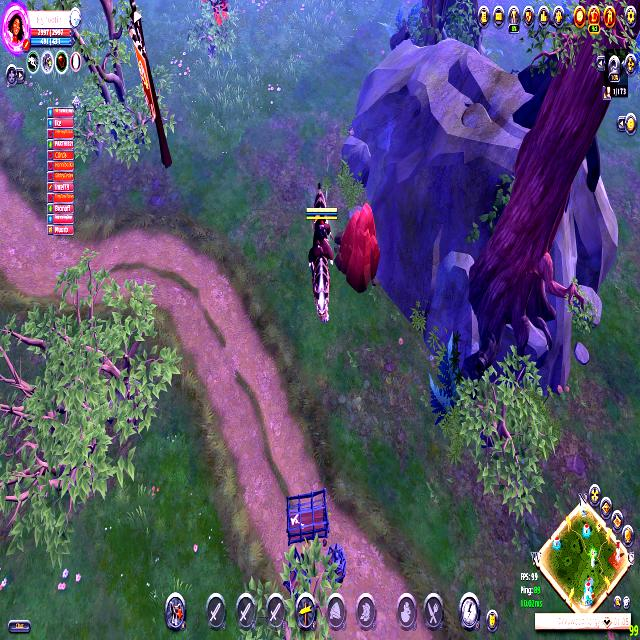red: (301, 174, 341, 332)
tree: (331, 195, 389, 305)
